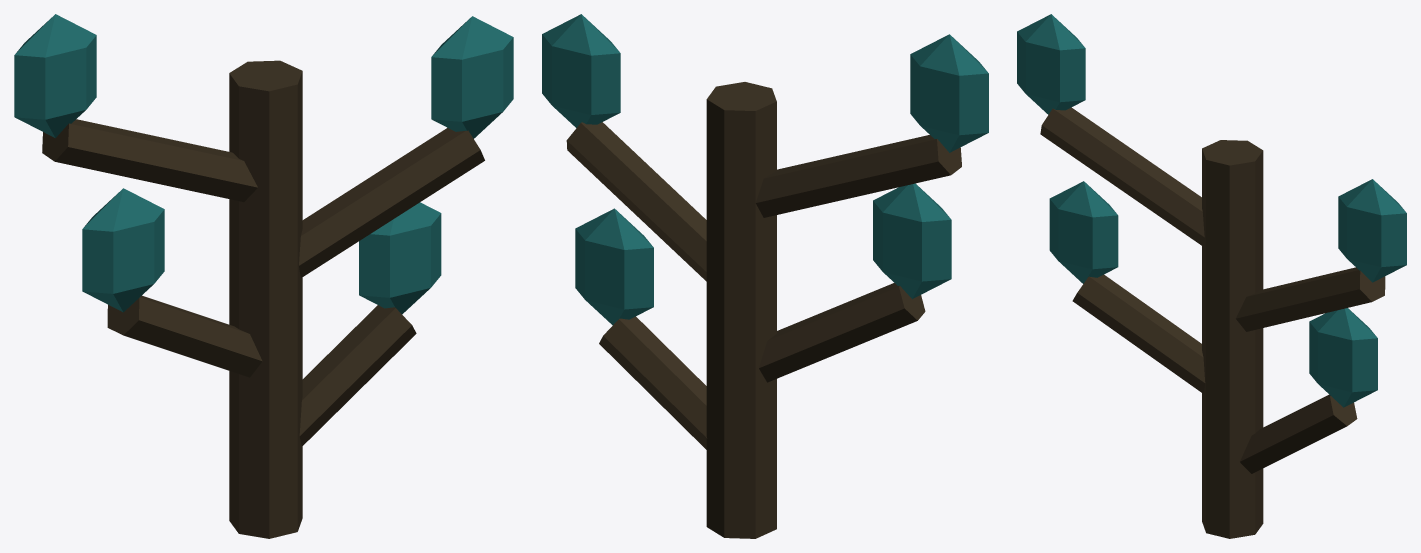
File: plant_branch_a.obj
3 views of the same model, side by side, from view 1: azimuth 30°, elevation 25°; view 2: azimuth 150°, elevation 25°; view 3: azimuth 330°, elevation 25° (orthographic). The views are drawn at different scales.
Visible parts, largest first — view 1: trunk, branch_2, branch_3, polyp_1, polyp_3, polyp_2, polyp_0, branch_0, branch_1; view 2: trunk, branch_3, branch_2, branch_1, polyp_3, polyp_1, polyp_0, polyp_2, branch_0; view 3: trunk, branch_3, branch_1, polyp_1, polyp_2, polyp_0, polyp_3, branch_2, branch_0.
Part boxes in pixels (x1,y1,x2,y2): trunk: [229, 60, 302, 538]; branch_2: [299, 128, 484, 277]; branch_3: [42, 119, 257, 202]; polyp_1: [82, 188, 164, 312]; polyp_3: [14, 14, 96, 137]; polyp_2: [431, 16, 513, 138]; polyp_0: [359, 202, 441, 314]; branch_0: [299, 305, 416, 446]; branch_1: [107, 295, 262, 377]; trunk: [706, 82, 776, 538]; branch_3: [756, 135, 961, 217]; branch_2: [566, 122, 706, 281]; branch_1: [759, 283, 925, 382]; polyp_3: [910, 34, 988, 152]; polyp_1: [873, 183, 951, 299]; polyp_0: [575, 208, 653, 325]; polyp_2: [542, 14, 620, 127]; branch_0: [599, 316, 707, 449]; trunk: [1202, 140, 1263, 538]; branch_3: [1040, 107, 1204, 246]; branch_1: [1072, 274, 1205, 393]; polyp_1: [1049, 181, 1118, 283]; polyp_2: [1338, 179, 1406, 282]; polyp_0: [1309, 308, 1377, 407]; polyp_3: [1017, 14, 1085, 114]; branch_2: [1236, 267, 1385, 331]; branch_0: [1240, 394, 1357, 473].
Size of the model in its own units: 1.63 by 1.81 by 0.2881.
